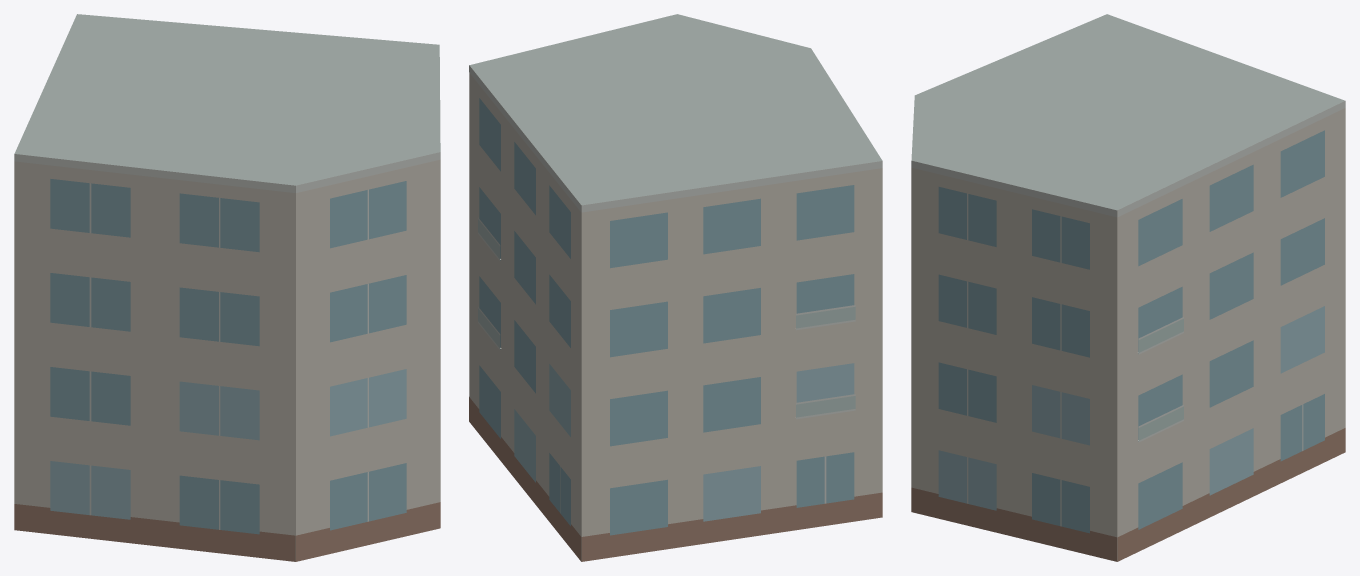
Rendered from survey-upis-32643243.glb.
3 views of the same model, side by side, from view 1: azimuth 30°, elevation 25°; view 2: azimuth 150°, elevation 25°; view 3: azimuth 270°, elevation 25° (orthographic). The views are drawn at different scales.
Parts seen in each view (by area): view 1: survey-upis-32643243.tmp; view 2: survey-upis-32643243.tmp; view 3: survey-upis-32643243.tmp.
Boxes of the visible parts, x1=… form: survey-upis-32643243.tmp: x1=14, y1=14, x2=440, y2=561; survey-upis-32643243.tmp: x1=469, y1=14, x2=882, y2=561; survey-upis-32643243.tmp: x1=911, y1=14, x2=1345, y2=561.
Size of the model in its own units: 14.63 by 12.2 by 13.67.
